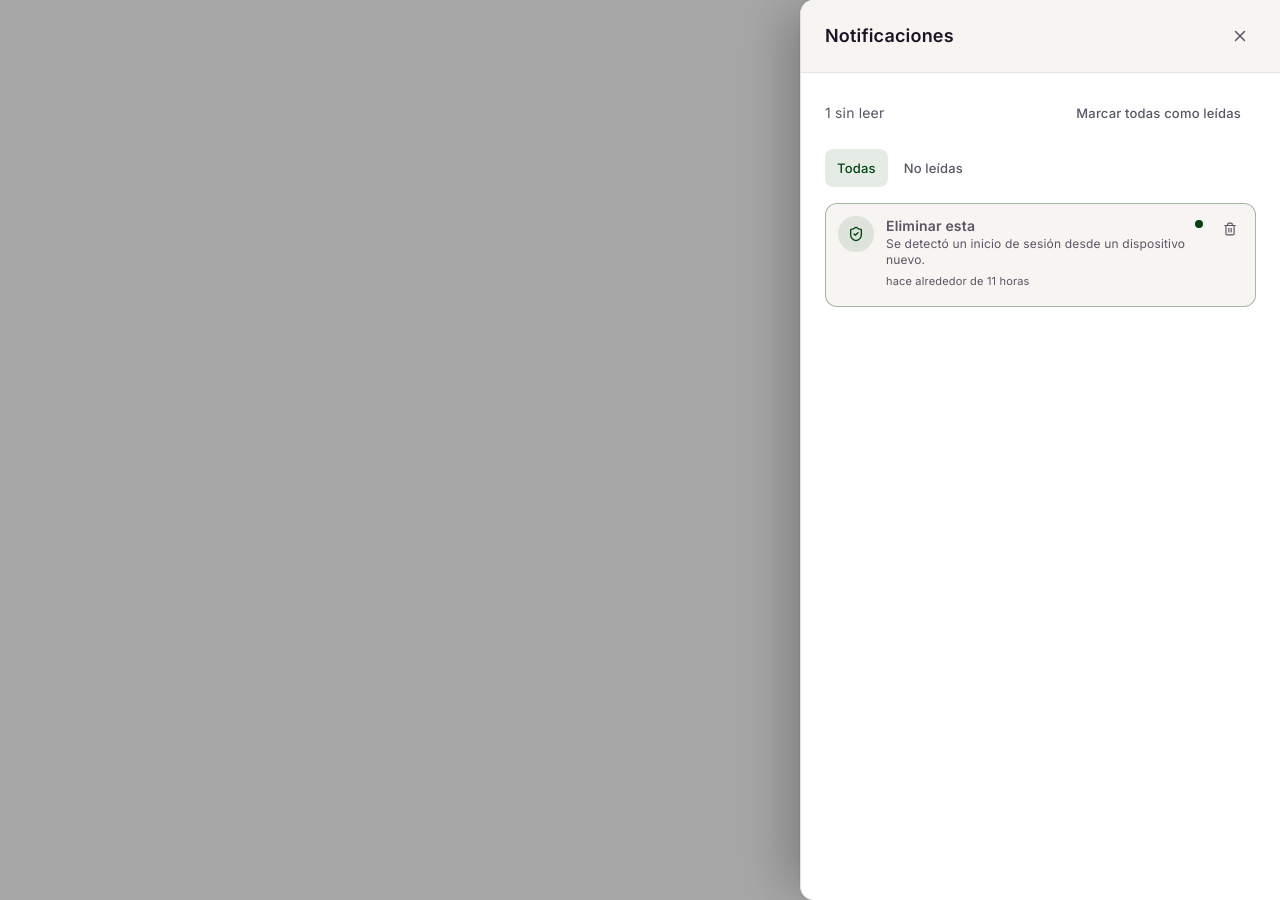
Scenario: NotificationPanel — listado y estados › elimina una notificación al presionar el botón de borrar
The image size is (1280, 900).
Click the button named "Eliminar notificación". click: (1230, 229)
box: [1216,215,1244,243]
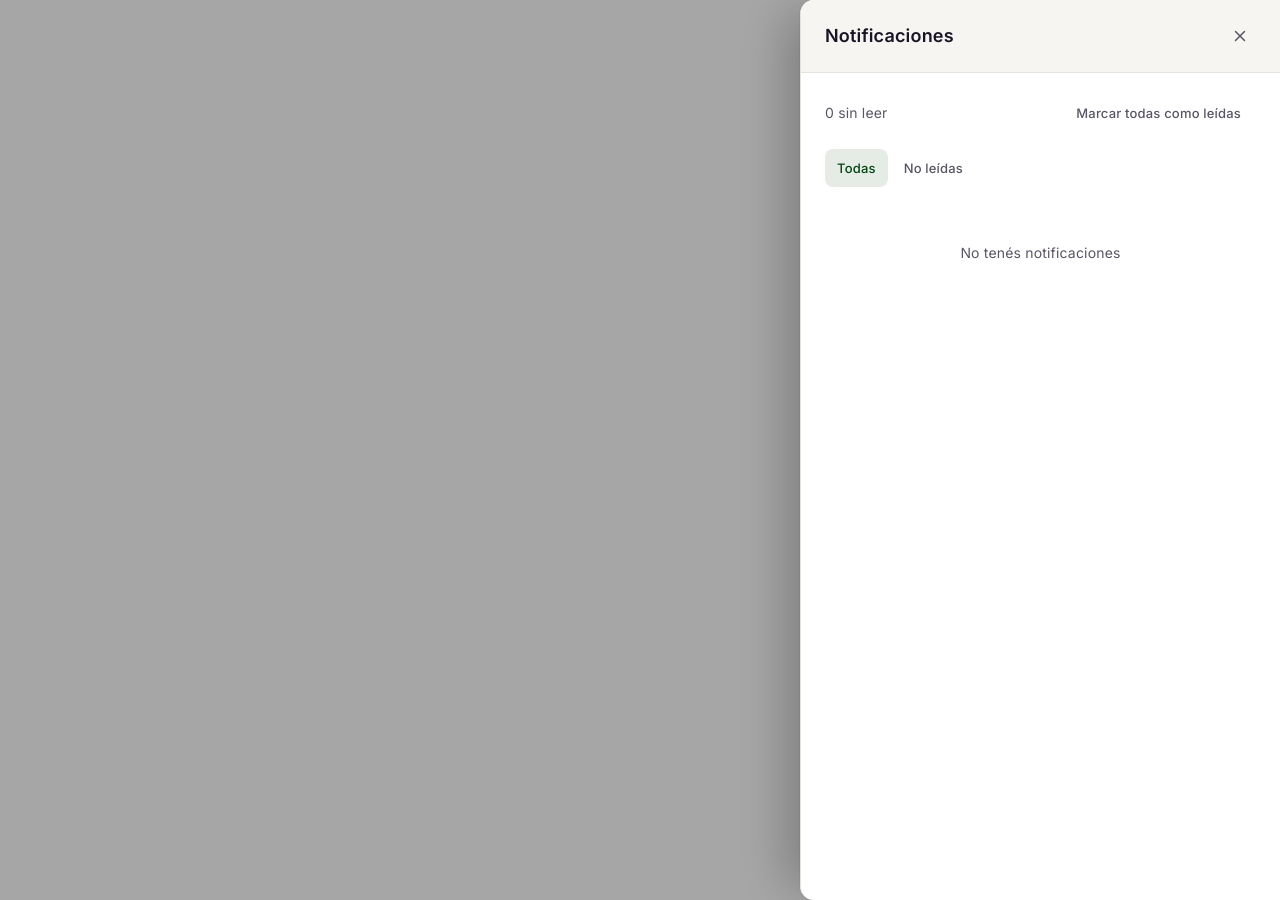
Expected: the button "Eliminar esta" is gone
